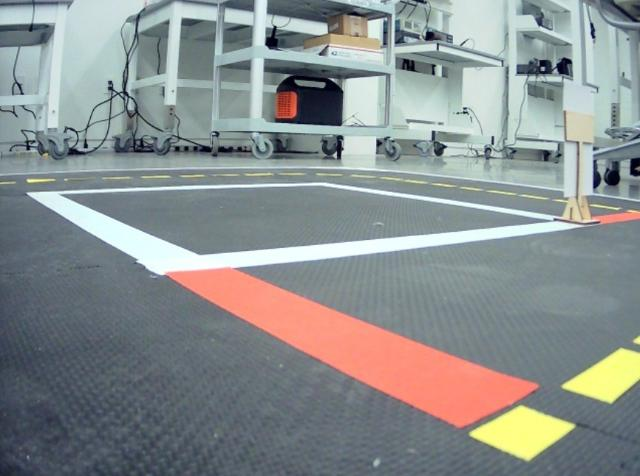redline: (167, 267, 541, 430), (592, 210, 640, 224)
whiteline: (163, 221, 589, 277), (25, 192, 203, 278), (322, 182, 560, 220), (25, 181, 322, 194)
yellowline: (470, 335, 640, 466), (349, 174, 640, 213), (1, 172, 342, 186)
